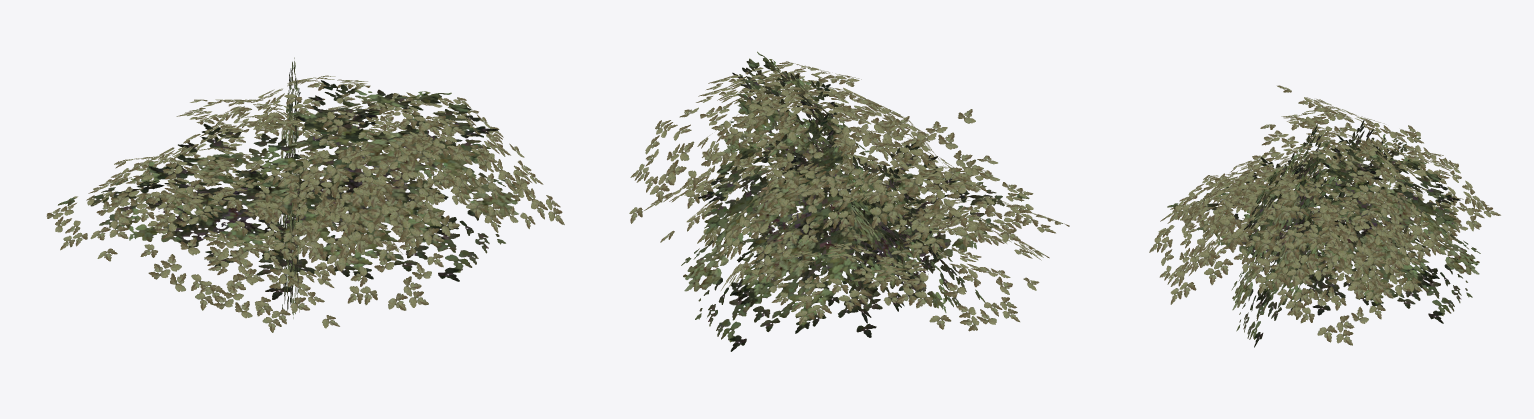
File: decd_saplingclump_sm_l0.fbx
3 views of the same model, side by side, from view 1: azimuth 30°, elevation 25°; view 2: azimuth 150°, elevation 25°; view 3: azimuth 270°, elevation 25° (orthographic). The views are drawn at different scales.
Parts seen in each view (by area): view 1: mesh_node; view 2: mesh_node; view 3: mesh_node.
Boxes of the visible parts, left/top/right/bottom form: mesh_node: left=46, top=57, right=564, bottom=332; mesh_node: left=629, top=51, right=1069, bottom=351; mesh_node: left=1149, top=85, right=1500, bottom=347.
Size of the model in its own units: 3.68 by 2.28 by 3.26.
